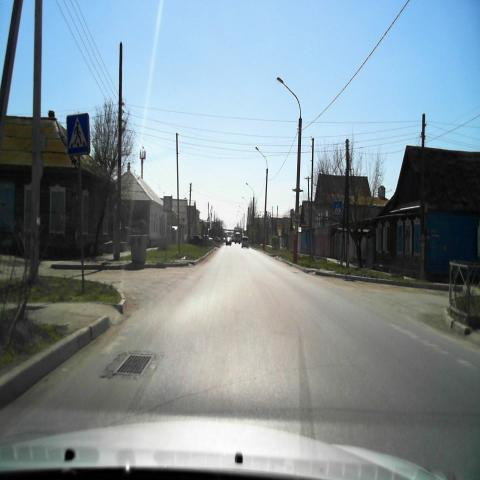5_19_1: (67, 114, 89, 155), (332, 201, 342, 217), (163, 195, 173, 211)
